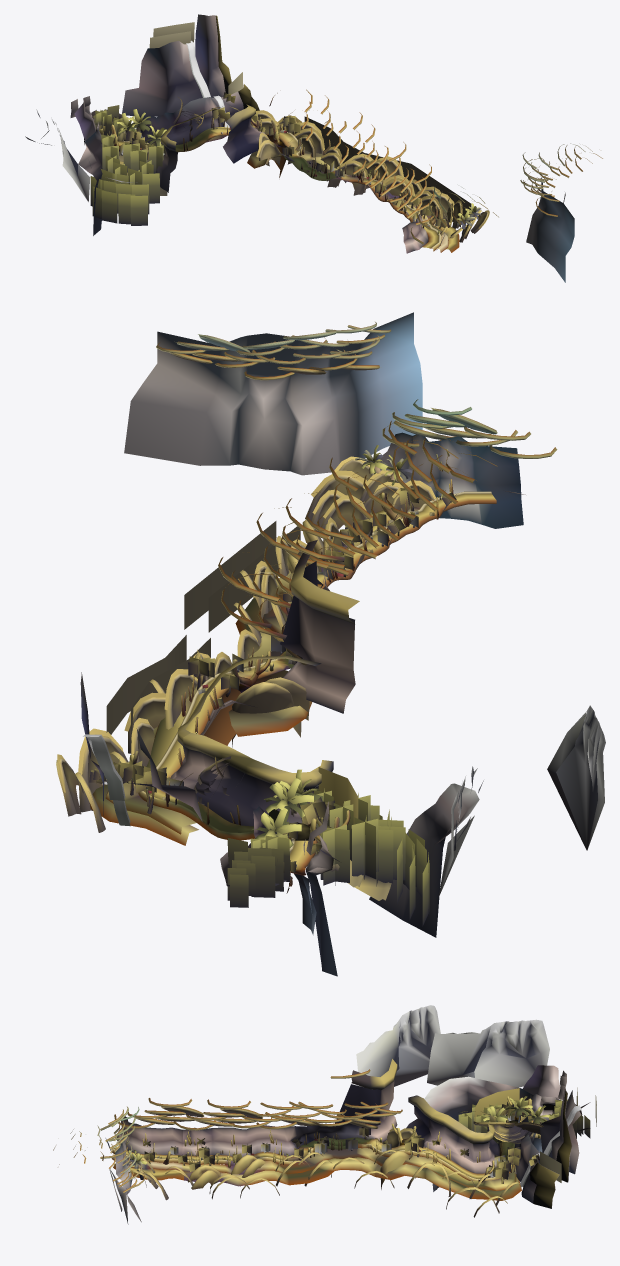
File: 01Chase.gltf
3 renders of one model, top to bottom at view 1: azimuth 30°, elevation 25°; view 2: azimuth 150°, elevation 25°; view 3: azimuth 270°, elevation 25°, orthographic. The views are drawn at different scales.
Parts seen in each view (by area): view 1: stg020_o01_Mesh_15, stg020_o01_Mesh_0, stg020_p13_Mesh_2, stg020_o01_Mesh_17, stg020_p13_Mesh_4, stg020_p13_Mesh_0, stg020_p01_Mesh_3, stg020_o13_Mesh_0, stg020_a13_Mesh_0, stg020_falls_w_01_Mesh_0000, stg020_a01_Mesh_3; view 2: stg020_o01_Mesh_15, stg020_o01_Mesh_0, stg020_o01_Mesh_17, stg020_p13_Mesh_2, stg020_p13_Mesh_4, stg020_p13_Mesh_0, stg020_p01_Mesh_3, stg020_o13_Mesh_0, stg020_falls_w_01_Mesh_0000, stg020_p01_Mesh_21; view 3: stg020_o01_Mesh_15, stg020_o01_Mesh_17, stg020_o01_Mesh_0, stg020_p13_Mesh_0, stg020_p13_Mesh_2, stg020_a13_Mesh_0, stg020_o13_Mesh_0, stg020_p13_Mesh_4, stg020_p01_Mesh_21, stg020_a01_Mesh_3, stg020_p01_Mesh_3, stg020_falls_w_01_Mesh_0000.
Boxes of the visible parts, left/top/right/bottom form: stg020_o01_Mesh_15: left=25, top=14, right=574, bottom=282; stg020_o01_Mesh_0: left=173, top=89, right=602, bottom=244; stg020_p13_Mesh_2: left=90, top=105, right=481, bottom=234; stg020_o01_Mesh_17: left=111, top=104, right=459, bottom=252; stg020_p13_Mesh_4: left=112, top=22, right=471, bottom=227; stg020_p13_Mesh_0: left=96, top=92, right=446, bottom=228; stg020_p01_Mesh_3: left=199, top=110, right=489, bottom=238; stg020_o13_Mesh_0: left=108, top=117, right=449, bottom=228; stg020_a13_Mesh_0: left=129, top=15, right=259, bottom=144; stg020_falls_w_01_Mesh_0000: left=186, top=40, right=229, bottom=127; stg020_a01_Mesh_3: left=153, top=121, right=264, bottom=144; stg020_o01_Mesh_15: left=80, top=312, right=605, bottom=976; stg020_o01_Mesh_0: left=56, top=322, right=557, bottom=832; stg020_o01_Mesh_17: left=89, top=491, right=496, bottom=900; stg020_p13_Mesh_2: left=227, top=445, right=429, bottom=926; stg020_p13_Mesh_4: left=106, top=521, right=358, bottom=824; stg020_p13_Mesh_0: left=89, top=485, right=456, bottom=872; stg020_p01_Mesh_3: left=57, top=330, right=490, bottom=793; stg020_o13_Mesh_0: left=129, top=449, right=453, bottom=875; stg020_falls_w_01_Mesh_0000: left=83, top=734, right=130, bottom=826; stg020_p01_Mesh_21: left=142, top=513, right=418, bottom=827; stg020_o01_Mesh_15: left=105, top=1005, right=590, bottom=1224; stg020_o01_Mesh_17: left=111, top=1059, right=540, bottom=1200; stg020_o01_Mesh_0: left=53, top=1069, right=542, bottom=1217; stg020_p13_Mesh_0: left=144, top=1102, right=554, bottom=1179; stg020_p13_Mesh_2: left=126, top=1096, right=590, bottom=1179; stg020_a13_Mesh_0: left=506, top=1091, right=571, bottom=1208; stg020_o13_Mesh_0: left=123, top=1096, right=531, bottom=1182; stg020_p13_Mesh_4: left=474, top=1087, right=596, bottom=1182; stg020_p01_Mesh_21: left=170, top=1111, right=516, bottom=1177; stg020_a01_Mesh_3: left=423, top=1139, right=519, bottom=1173; stg020_p01_Mesh_3: left=143, top=1107, right=543, bottom=1143; stg020_falls_w_01_Mesh_0000: left=520, top=1105, right=581, bottom=1187.
Bounding box in the file's own units: 655 × 242 × 805.
